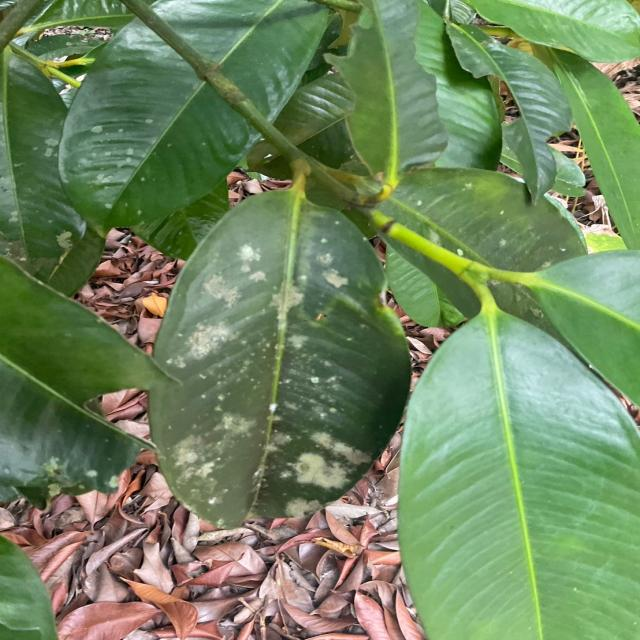Leaf Spot: (220, 239, 354, 322), (269, 425, 392, 508), (160, 409, 246, 496), (279, 322, 351, 419), (425, 210, 495, 262), (183, 319, 250, 364)
